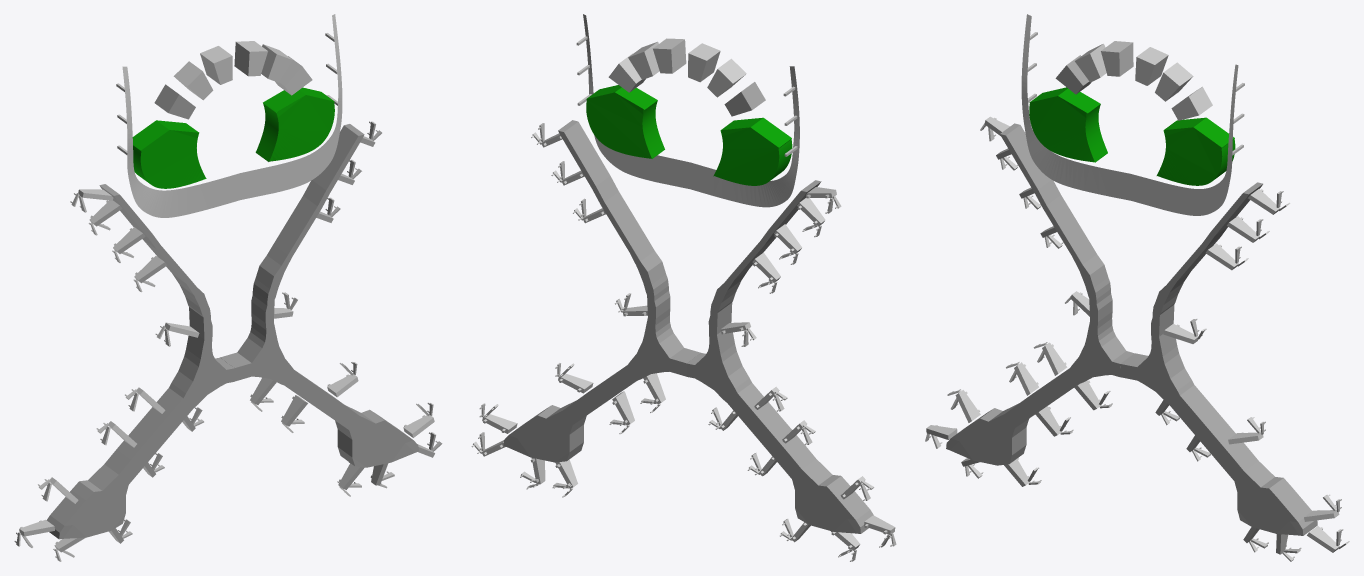
The model's file is T2TerminaltRotateX.obj.
The picture shows the model from 3 angles, left to right: view 1: azimuth 30°, elevation 25°; view 2: azimuth 150°, elevation 25°; view 3: azimuth 330°, elevation 25°; orthographic projection.
Visible parts, largest first — view 1: Cube.006_Cube.009, Cube.000, Cylinder.003_Cylinder.016, Plane, Plane.001, Cube.003_Cube.004, Cube_Cube.001, Cube.001_Cube.002, Cube.002_Cube.003, Cube.004_Cube.005, Cube.005_Cube.006; view 2: Cube.006_Cube.009, Cube.000, Cylinder.003_Cylinder.016, Plane, Plane.001, Cube.003_Cube.004, Cube_Cube.001, Cube.001_Cube.002, Cube.002_Cube.003, Cube.004_Cube.005, Cube.005_Cube.006; view 3: Cube.006_Cube.009, Cube.000, Cylinder.003_Cylinder.016, Plane.001, Plane, Cube_Cube.001, Cube.003_Cube.004, Cube.004_Cube.005, Cube.005_Cube.006, Cube.001_Cube.002, Cube.002_Cube.003, Cube.013_Cube.055.
Boxes of the visible parts, x1,y1,x2,y2 form: Cube.006_Cube.009: (220, 124, 418, 467); Cube.000: (46, 184, 234, 539); Cylinder.003_Cylinder.016: (122, 14, 342, 217); Plane: (255, 87, 334, 161); Plane.001: (132, 120, 206, 188); Cube.003_Cube.004: (234, 41, 267, 76); Cube_Cube.001: (200, 46, 232, 84); Cube.001_Cube.002: (173, 61, 213, 100); Cube.002_Cube.003: (154, 84, 195, 119); Cube.004_Cube.005: (261, 44, 292, 82); Cube.005_Cube.006: (275, 56, 312, 95); Cube.006_Cube.009: (503, 120, 700, 462); Cube.000: (686, 180, 873, 533); Cylinder.003_Cylinder.016: (583, 14, 799, 207); Plane: (586, 85, 664, 158); Plane.001: (713, 117, 792, 185); Cube.003_Cube.004: (653, 38, 686, 73); Cube_Cube.001: (688, 43, 720, 82); Cube.001_Cube.002: (707, 58, 746, 97); Cube.002_Cube.003: (724, 82, 765, 116); Cube.004_Cube.005: (628, 41, 659, 79); Cube.005_Cube.006: (608, 53, 645, 92); Cube.006_Cube.009: (1120, 182, 1317, 535); Cube.000: (946, 123, 1133, 465); Cylinder.003_Cylinder.016: (1021, 14, 1238, 215); Plane.001: (1029, 87, 1107, 162); Plane: (1156, 117, 1235, 185); Cube_Cube.001: (1101, 41, 1133, 76); Cube.003_Cube.004: (1135, 47, 1168, 85); Cube.004_Cube.005: (1155, 62, 1193, 101); Cube.005_Cube.006: (1171, 86, 1212, 120); Cube.001_Cube.002: (1075, 43, 1106, 82); Cube.002_Cube.003: (1055, 55, 1091, 94); Cube.013_Cube.055: (1163, 319, 1206, 343).
Bounding box in the file's own units: 8.53 × 9.38 × 0.586.
